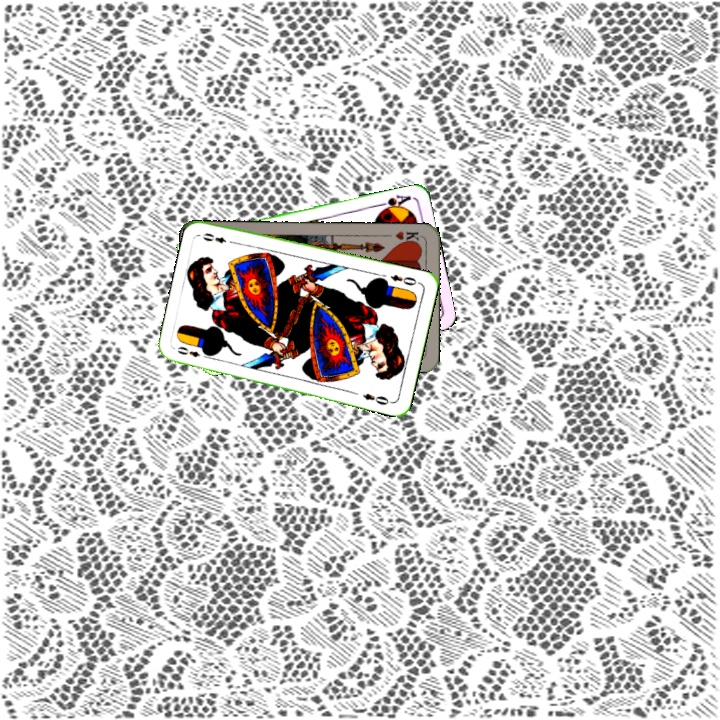EO: (173, 342, 212, 361), (386, 271, 422, 288)
HK: (392, 227, 424, 246)
SA: (375, 191, 416, 214)
